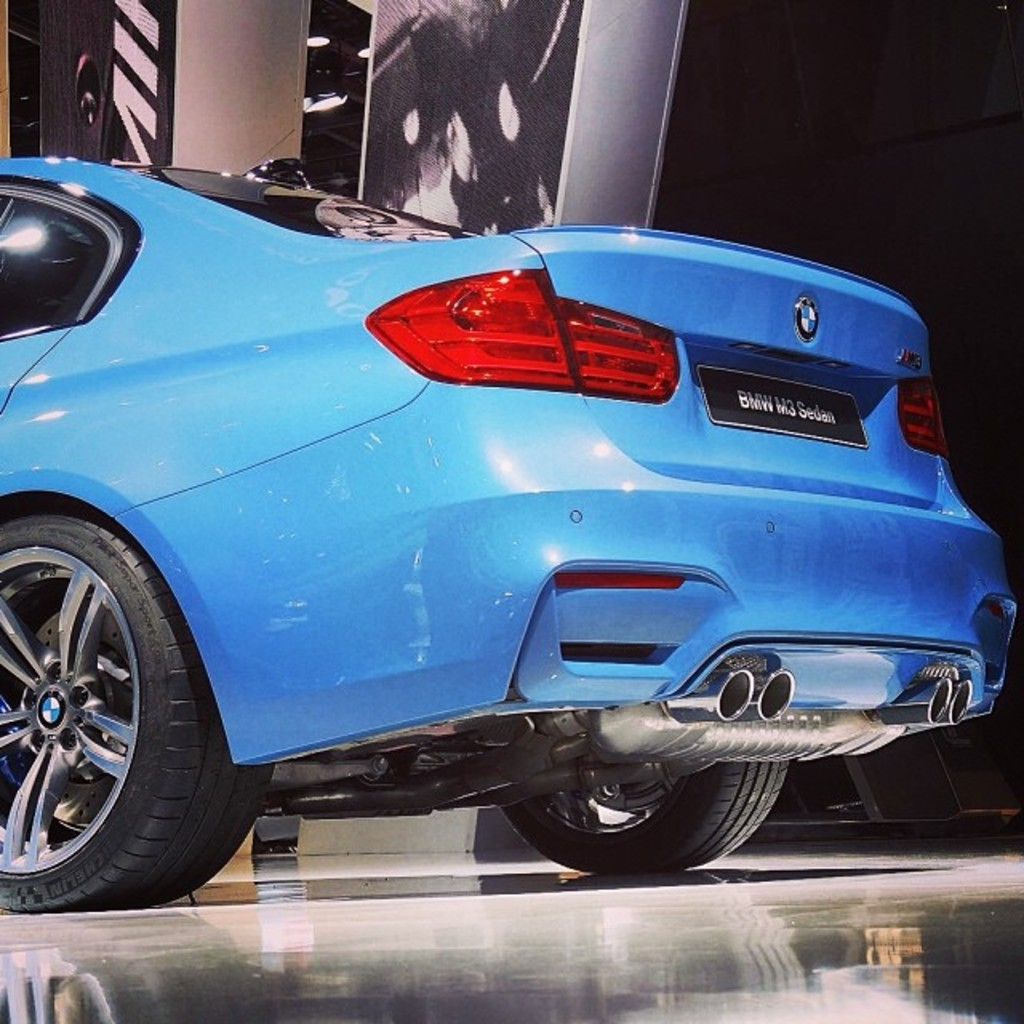Car: (0, 140, 966, 923)
